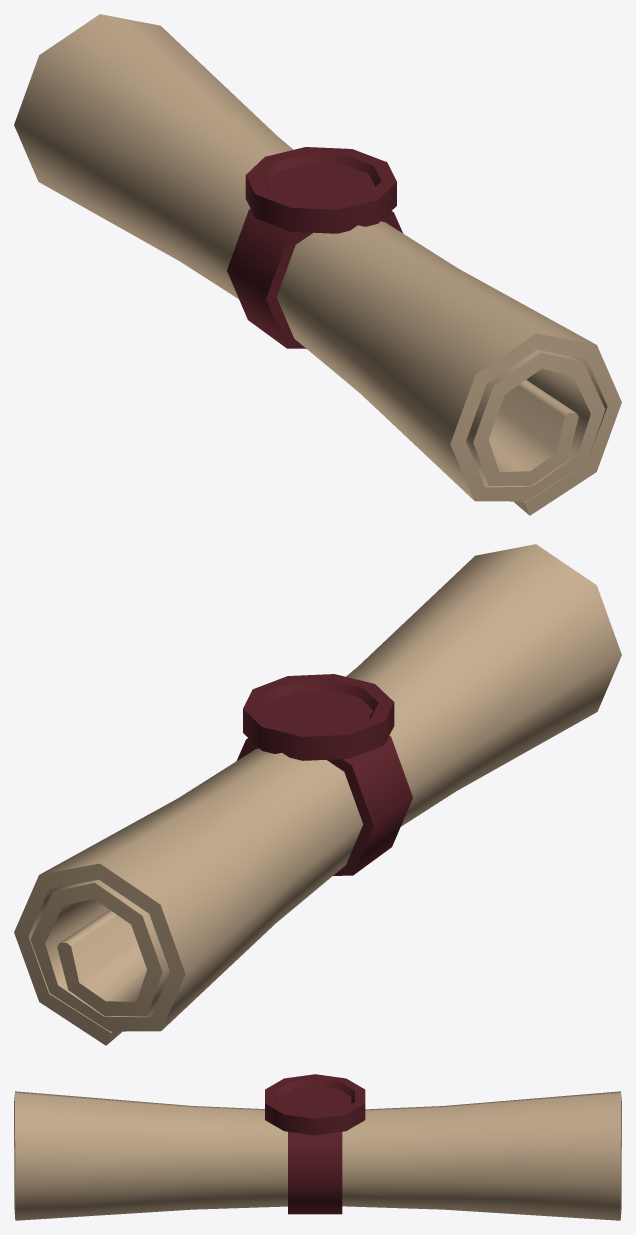
File: Scroll_02_Closed.fbx
3 renders of one model, top to bottom at view 1: azimuth 30°, elevation 25°; view 2: azimuth 150°, elevation 25°; view 3: azimuth 270°, elevation 25°, orthographic. The views are drawn at different scales.
Visible parts, largest first — view 1: Scroll_02_Closed, Scroll_02_Closed_Seal; view 2: Scroll_02_Closed, Scroll_02_Closed_Seal; view 3: Scroll_02_Closed, Scroll_02_Closed_Seal.
Boxes of the visible parts, x1,y1,x2,y2 form: Scroll_02_Closed: (14, 14, 621, 515); Scroll_02_Closed_Seal: (227, 147, 402, 348); Scroll_02_Closed: (14, 544, 621, 1045); Scroll_02_Closed_Seal: (236, 674, 412, 875); Scroll_02_Closed: (14, 1091, 621, 1220); Scroll_02_Closed_Seal: (265, 1074, 365, 1214).
Bounding box in the file's own units: 0.0721 × 0.0726 × 0.3182.
